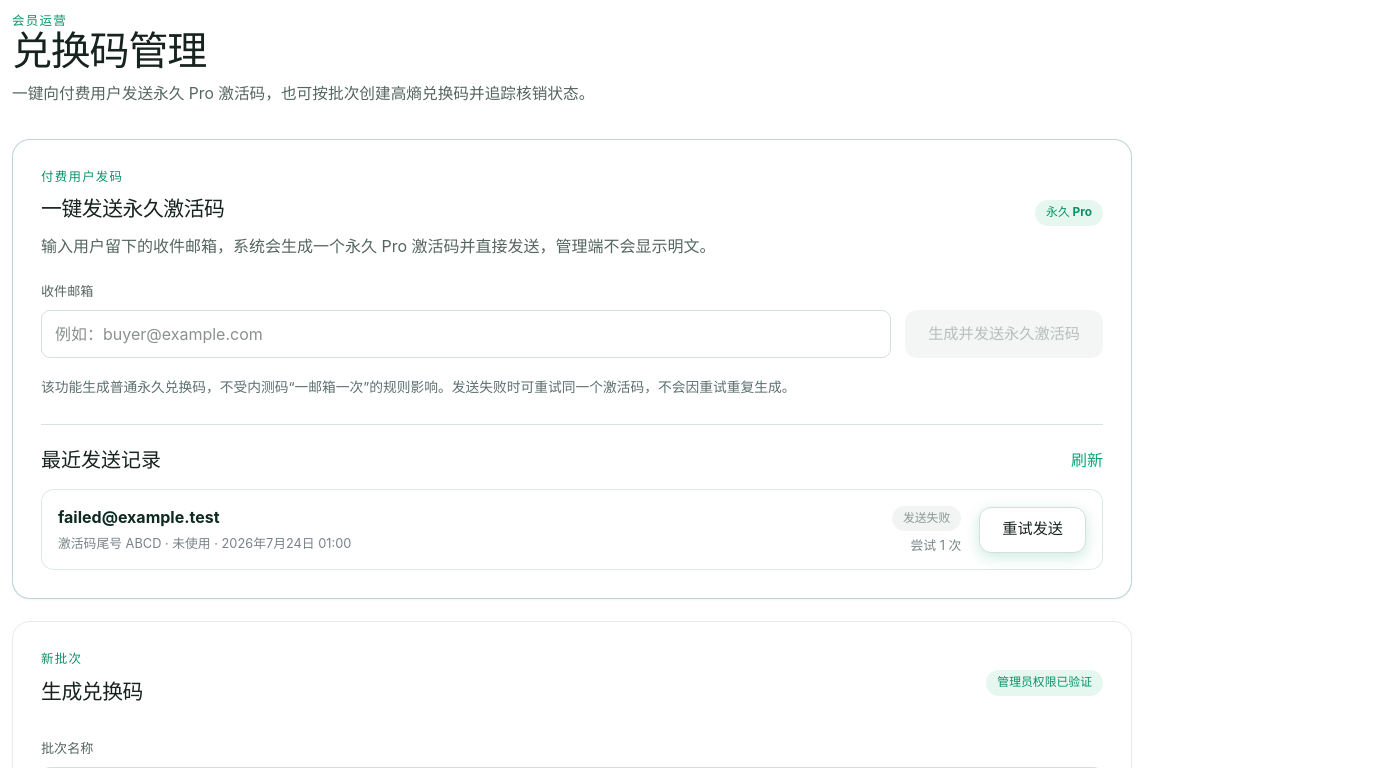
Test: AdminRedemptionCodesPage › generates and emails a permanent Pro code without showing plaintext
This screenshot has width=1378, height=768.
Type "buyer@example.test" into the field with id "lifetime-code-email" at (466, 334), box [41,310,891,358]
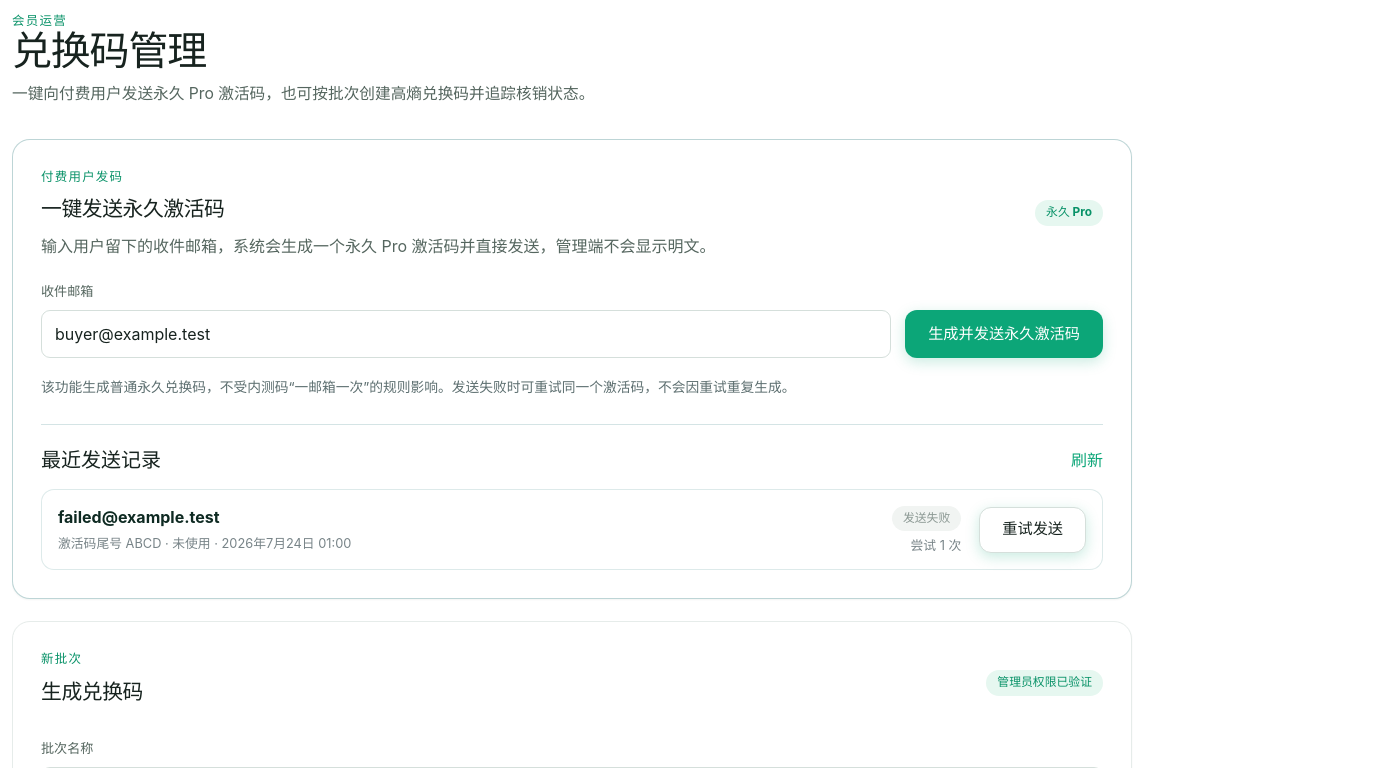
Submit the form with class "lifetime-code-delivery-card", box [12,138,1132,599]
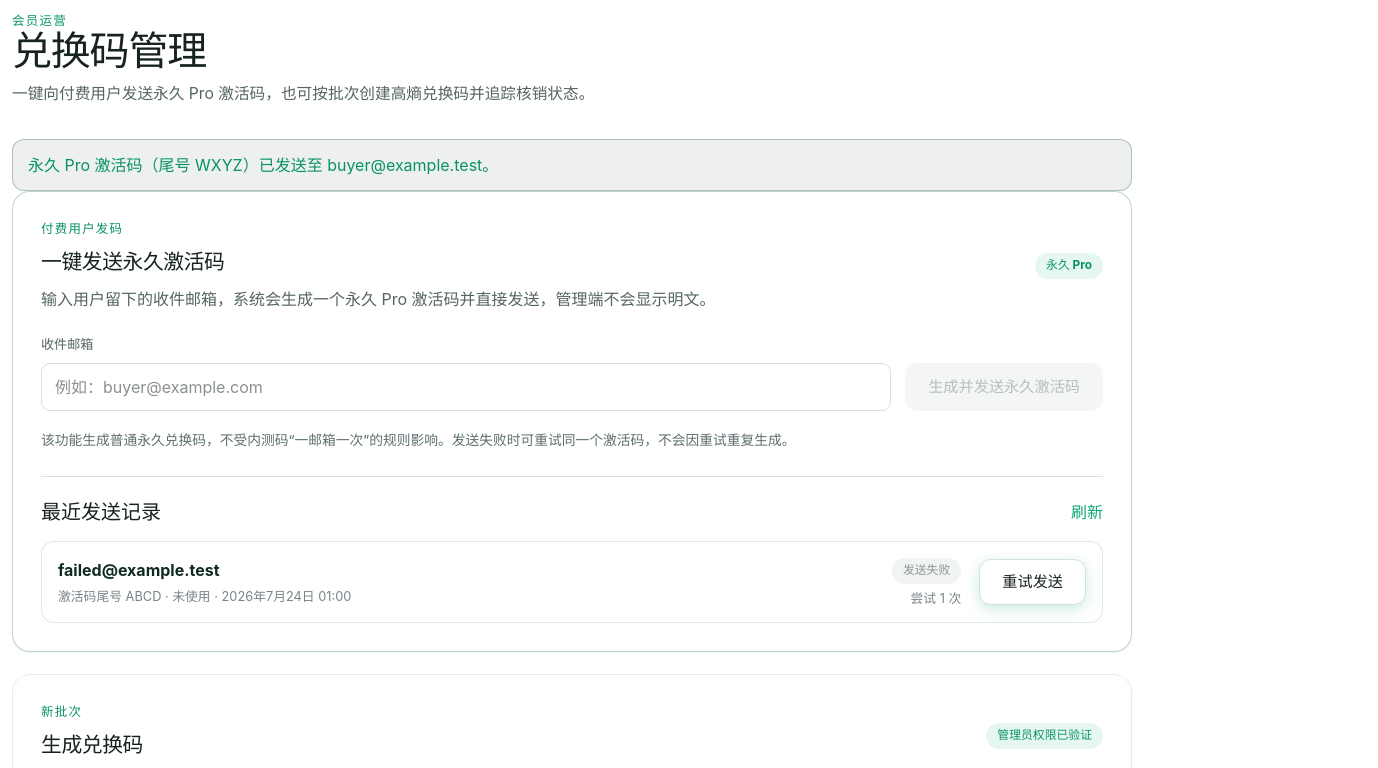
Check: the text "永久 Pro 激活码（尾号 WXYZ）已发送至 buyer@example.test" is shown, box [28,154,498,174]
